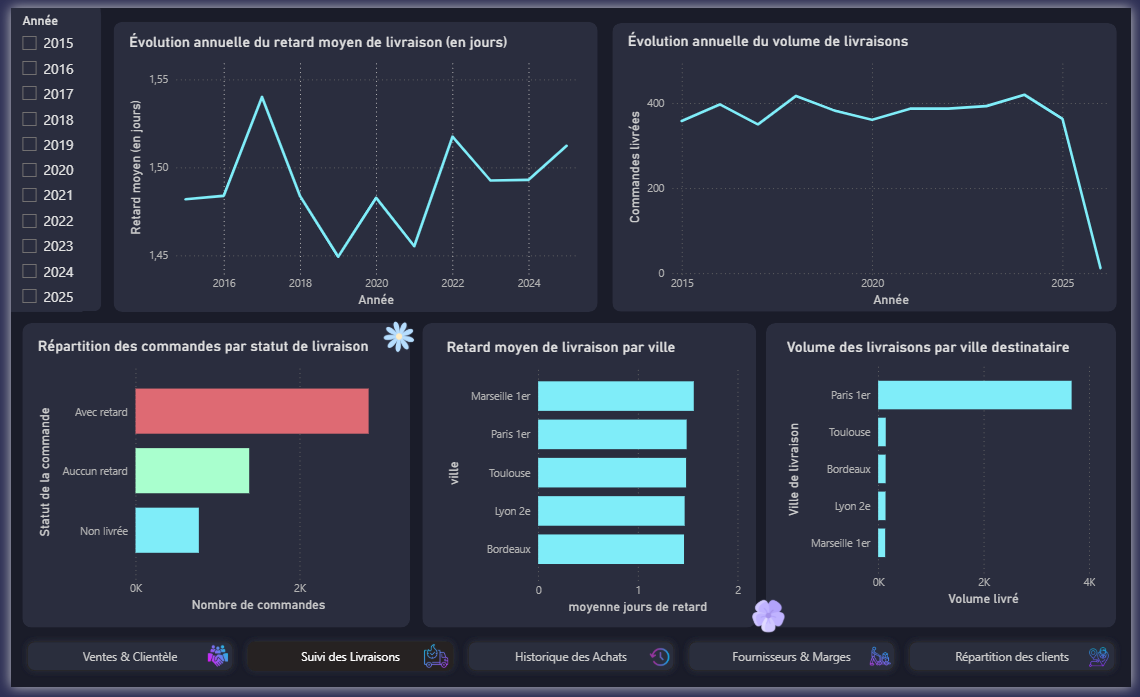

The dashboard page shown, as its layout file describes it:
{"tool":"powerbi","page":{"name":"Suivi des Livraisons","canvas":[1280,777],"ordinal":1},"visuals":[{"type":"shape","box":[686.7,16.7,576.7,330],"z":0},{"type":"shape","box":[0,0,81.7,51.7],"z":1000},{"type":"shape","box":[0,295,81.7,51.7],"z":2000},{"type":"shape","box":[0,0,103.3,346.7],"z":3000},{"type":"shape","box":[116.7,15,553.3,331.7],"z":5000},{"type":"lineChart","title":"Évolution annuelle du retard moyen de livraison (en jours)","fields":{"Category":["SAE_COMMANDEBOUQUET.DATECOMMANDE.Variation.Hiérarchie de dates.Année","SAE_COMMANDEBOUQUET.DATECOMMANDE.Variation.Hiérarchie de dates.Trimestre","SAE_COMMANDEBOUQUET.DATECOMMANDE.Variation.Hiérarchie de dates.Mois","SAE_COMMANDEBOUQUET.DATECOMMANDE.Variation.Hiérarchie de dates.Jour"],"Y":["Avg(SAE_COMMANDEBOUQUET.Jours_Retard)"]},"box":[130,28.3,523.3,318.3],"z":6000},{"type":"shape","box":[45,0,58.5,44.6],"z":6500},{"type":"lineChart","title":"Évolution annuelle du volume de livraisons","fields":{"Category":["SAE_COMMANDEBOUQUET.DATELIVRAISONEFFECTIVE.Variation.Hiérarchie de dates.Année","SAE_COMMANDEBOUQUET.DATELIVRAISONEFFECTIVE.Variation.Hiérarchie de dates.Trimestre","SAE_COMMANDEBOUQUET.DATELIVRAISONEFFECTIVE.Variation.Hiérarchie de dates.Mois","SAE_COMMANDEBOUQUET.DATELIVRAISONEFFECTIVE.Variation.Hiérarchie de dates.Jour"],"Y":["CountNonNull(SAE_COMMANDEBOUQUET.NUMCOMMANDE)"]},"box":[700,26.7,563.3,320],"z":7000},{"type":"shape","box":[863.3,360,400,348.3],"z":8000},{"type":"slicer","fields":{"Values":["SAE_COMMANDEBOUQUET.DATECOMMANDE.Variation.Hiérarchie de dates.Année"]},"box":[0,1.4,102.9,358.1],"z":8500},{"type":"shape","box":[13.3,360,443.3,348.3],"z":9000},{"type":"clusteredBarChart","title":"Répartition des commandes par statut de livraison","fields":{"Y":["CountNonNull(SAE_COMMANDEBOUQUET.NUMCOMMANDE)"],"Category":["SAE_COMMANDEBOUQUET.STATUTLIVRAISON (groupes) 2"]},"box":[25,375,410,320],"z":10000},{"type":"barChart","title":"Volume des livraisons par ville destinataire","fields":{"Y":["CountNonNull(SAE_COMMANDEBOUQUET.DATELIVRAISONEFFECTIVE)"],"Category":["SAE_VILLE.NOMVILLE"]},"box":[881.4,377.1,362.9,311.4],"z":11000},{"type":"shape","box":[470,360,381.7,348.3],"z":12000},{"type":"barChart","title":"Retard moyen de livraison par ville ","fields":{"Y":["SAE_COMMANDEBOUQUET.Retard Moyen Jours"],"Category":["SAE_VILLE.NOMVILLE"]},"box":[493.3,376.7,346.7,320],"z":13000},{"type":"pageNavigator","box":[10,716,1260,50],"z":14000},{"type":"image","box":[840,671.4,51.4,47.1],"z":15000},{"type":"image","box":[212.5,723.3,46.7,35],"z":16000},{"type":"image","box":[456.7,715.8,58.3,50],"z":17000},{"type":"image","box":[722.5,725.8,36.7,32.5],"z":18000},{"type":"image","box":[974.2,725,38.3,33.3],"z":19000},{"type":"image","box":[1225,725.8,35.8,32.5],"z":20000},{"type":"image","box":[417.1,351.4,52.9,48.6],"z":21000}]}

Visuals, with their boxes on the page's 1280x777 design canvas (x1, y1, x2, y2). These are canvas units, not pixel positions in the 1140x697 screenshot, which may show the page scaled, cropped or inside an application window:
shape: [left=687, top=17, right=1263, bottom=347]
shape: [left=0, top=0, right=82, bottom=52]
shape: [left=0, top=295, right=82, bottom=347]
shape: [left=0, top=0, right=103, bottom=347]
shape: [left=117, top=15, right=670, bottom=347]
"Évolution annuelle du retard moyen de livraison (en jours)" lineChart: [left=130, top=28, right=653, bottom=347]
shape: [left=45, top=0, right=104, bottom=45]
"Évolution annuelle du volume de livraisons" lineChart: [left=700, top=27, right=1263, bottom=347]
shape: [left=863, top=360, right=1263, bottom=708]
slicer - SAE_COMMANDEBOUQUET.DATECOMMANDE.Variation.Hiérarchie de dates.Année: [left=0, top=1, right=103, bottom=360]
shape: [left=13, top=360, right=457, bottom=708]
"Répartition des commandes par statut de livraison" clusteredBarChart: [left=25, top=375, right=435, bottom=695]
"Volume des livraisons par ville destinataire" barChart: [left=881, top=377, right=1244, bottom=688]
shape: [left=470, top=360, right=852, bottom=708]
"Retard moyen de livraison par ville " barChart: [left=493, top=377, right=840, bottom=697]
pageNavigator: [left=10, top=716, right=1270, bottom=766]
image: [left=840, top=671, right=891, bottom=718]
image: [left=212, top=723, right=259, bottom=758]
image: [left=457, top=716, right=515, bottom=766]
image: [left=722, top=726, right=759, bottom=758]
image: [left=974, top=725, right=1012, bottom=758]
image: [left=1225, top=726, right=1261, bottom=758]
image: [left=417, top=351, right=470, bottom=400]
